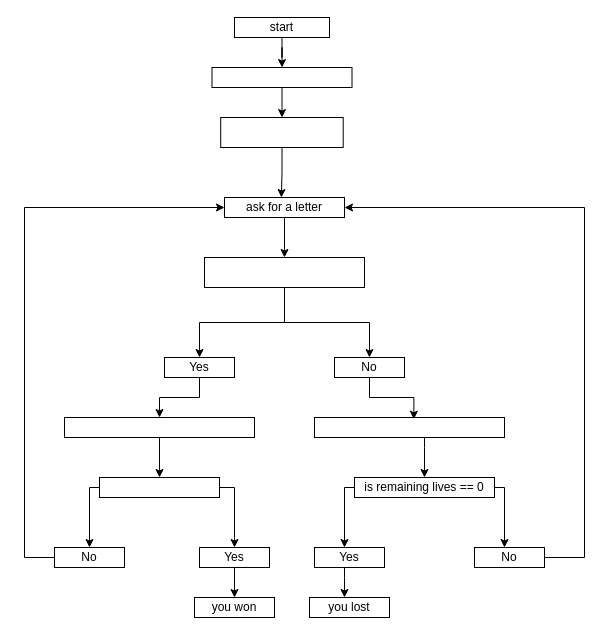
Image size: 610x635. Some labels were removed from this diagram. The shapes that lost their labels are listed below. From the top down, each one's centre as x and y in pixels, then its label:
At point 281,77: "generate random word".
At point 281,132: "blanks slots".
At point 284,272: "is letter in guessed word ?".
At point 159,427: "full-fill coressponding empty slots".
At point 409,427: "remaining lives = current lives -1".
At point 159,487: "is word completed ?".
